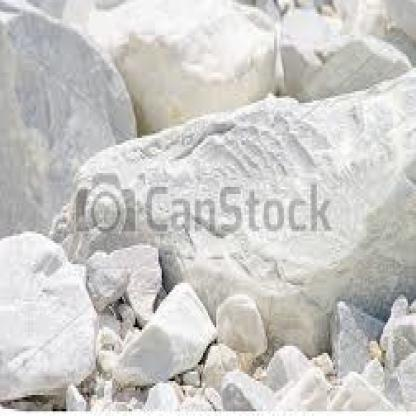Metamorphic_Marble: (0, 236, 101, 407), (111, 271, 213, 390), (212, 280, 268, 367)
